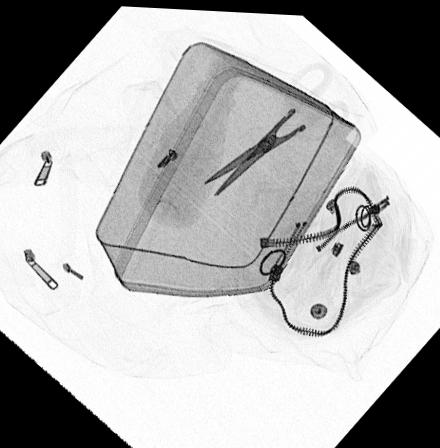Scissors: (200, 58, 350, 197)
